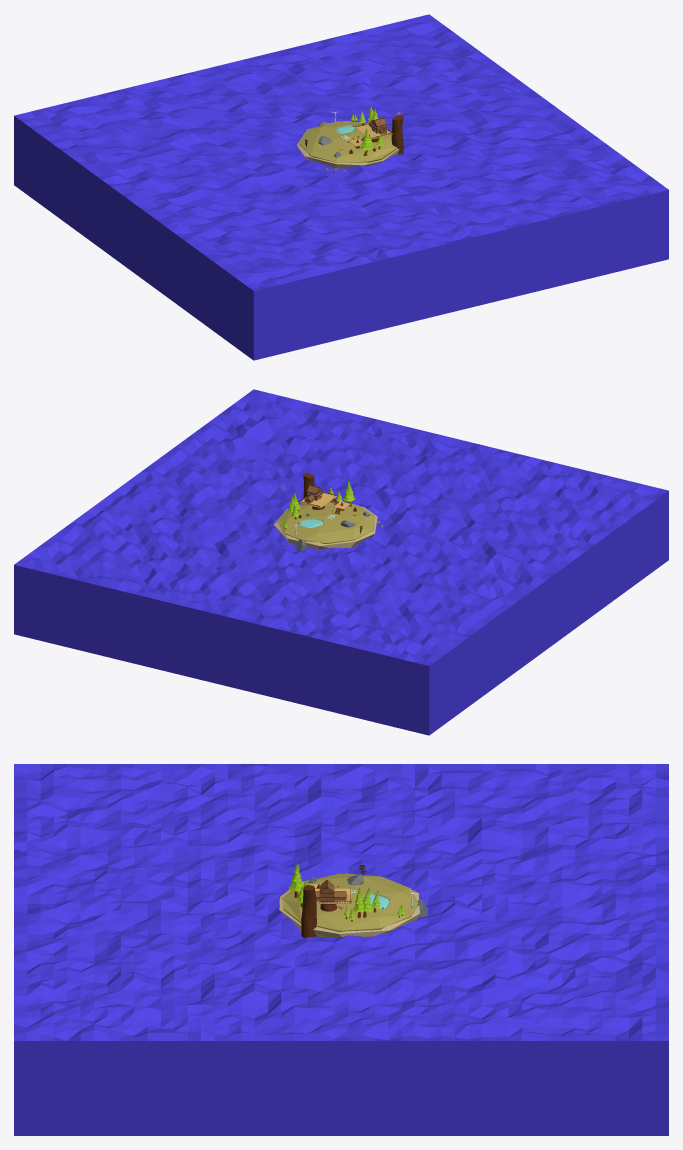
The model's file is myIsland6-v1.glb.
The picture shows the model from 3 angles, top to bottom: view 1: azimuth 30°, elevation 25°; view 2: azimuth 150°, elevation 25°; view 3: azimuth 270°, elevation 25°; orthographic projection. The views are drawn at different scales.
Parts seen in each view (by area): view 1: Cube.464, Icosphere, Icosphere.001; view 2: Cube.464, Icosphere, Icosphere.001; view 3: Cube.464, Icosphere, Icosphere.001, Cylinder.068.
Part boxes in pixels (<box>): Cube.464: <box>14,14,668,360</box>; Icosphere: <box>299,121,397,162</box>; Icosphere.001: <box>297,121,399,168</box>; Cube.464: <box>14,389,668,735</box>; Icosphere: <box>277,502,375,543</box>; Icosphere.001: <box>273,504,377,549</box>; Cube.464: <box>14,764,668,1135</box>; Icosphere: <box>282,873,418,931</box>; Icosphere.001: <box>279,873,419,938</box>; Cylinder.068: <box>301,885,316,937</box>.
Bounding box in the file's own units: 167 × 39.82 × 167.
67 materials, 10 textured.
